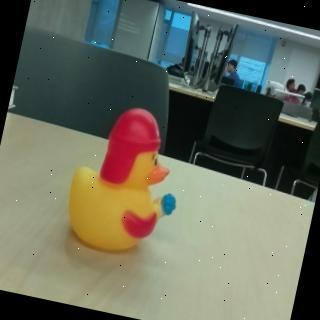duck_specialty: (58, 96, 197, 265)
